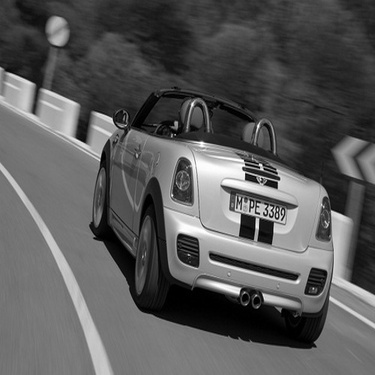car: (80, 76, 337, 349)
